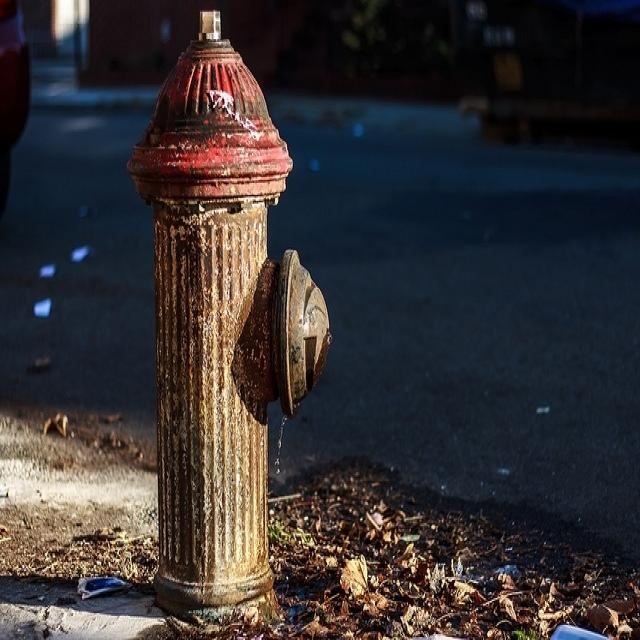fire_hydrant: (71, 36, 343, 638)
